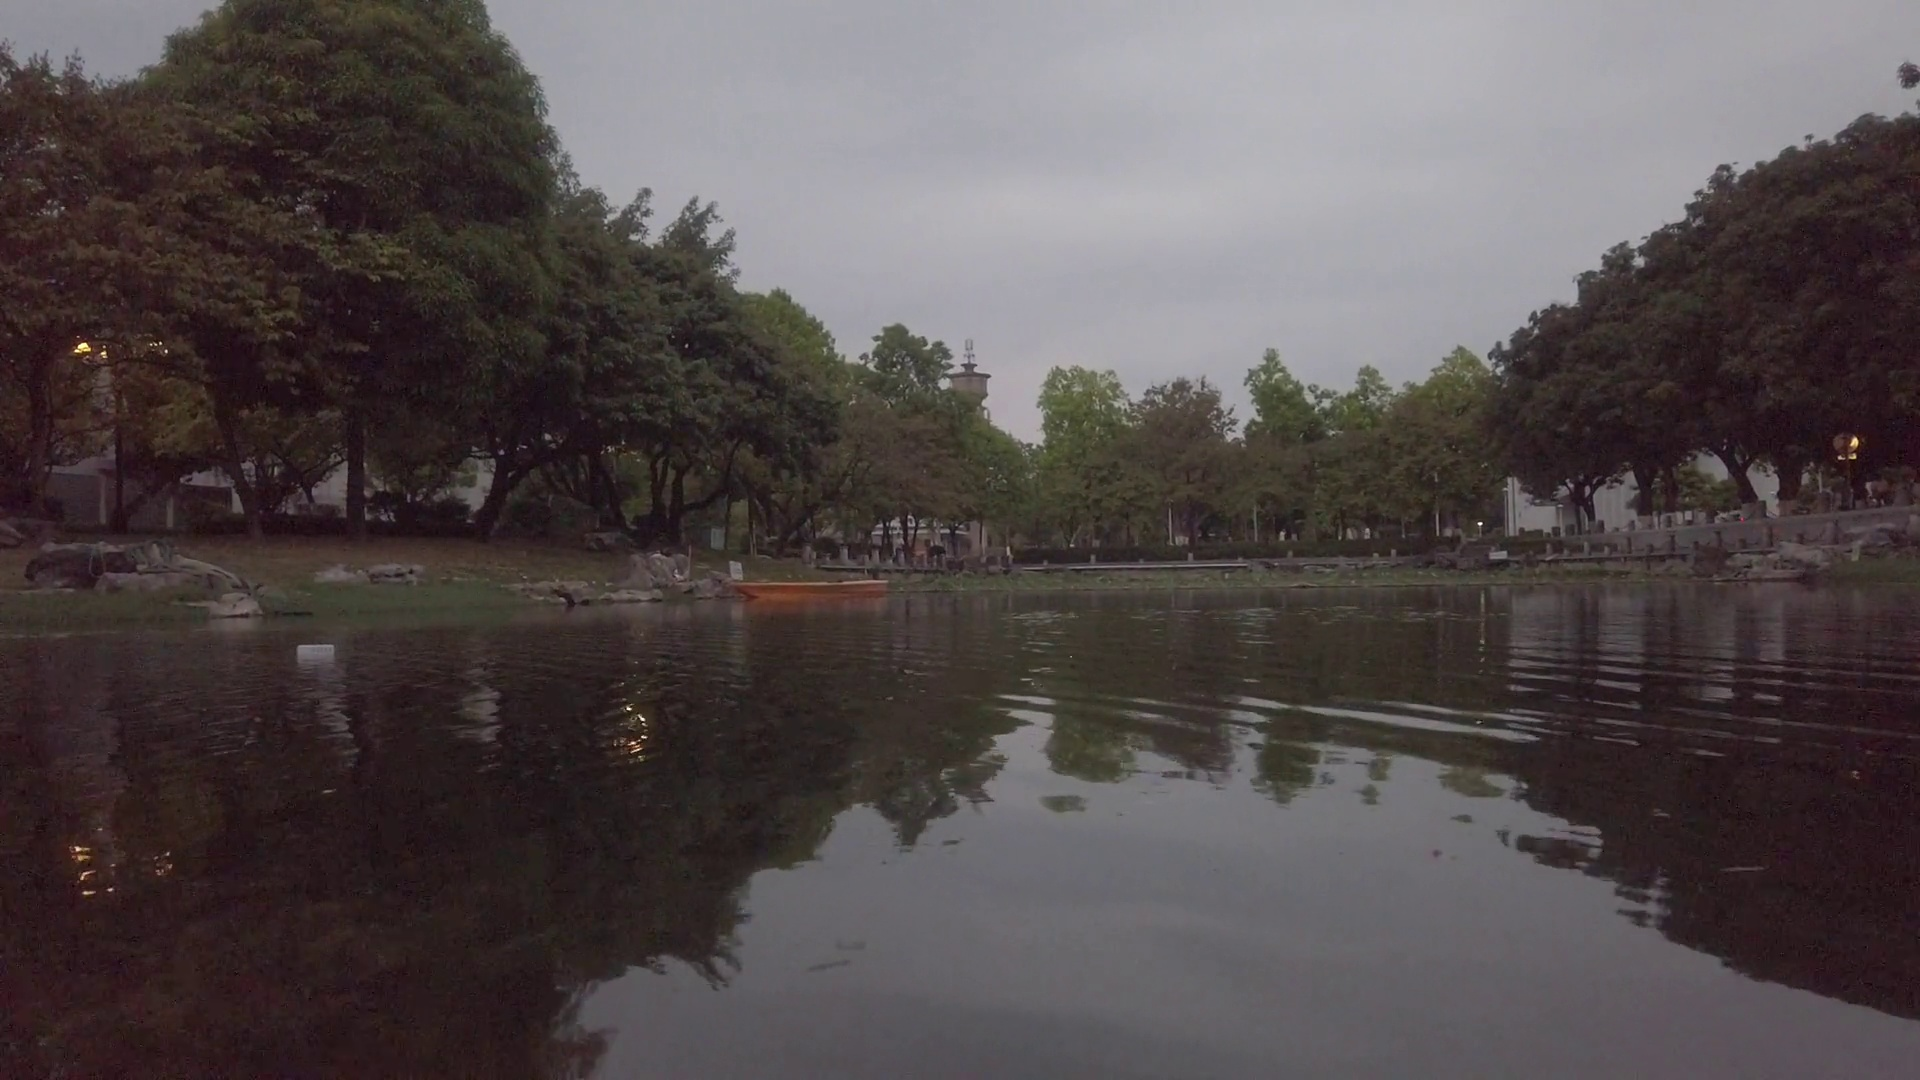carton: (295, 644, 335, 659)
